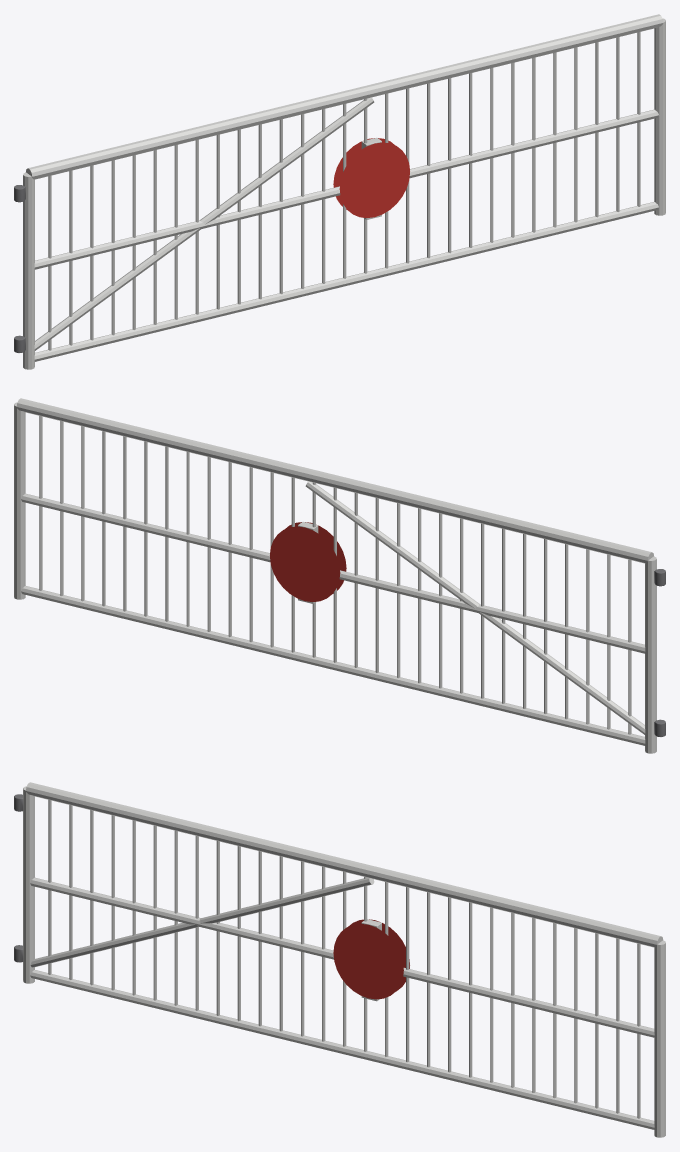
File: rail.crossing.gate_40.glb
3 renders of one model, top to bottom at view 1: azimuth 30°, elevation 25°; view 2: azimuth 150°, elevation 25°; view 3: azimuth 330°, elevation 25°, orthographic.
Parts seen in each view (by area): view 1: main__paint_eed, main__paint_c33; view 2: main__paint_eed, main__paint_c33; view 3: main__paint_eed, main__paint_c33.
Boxes of the visible parts, <box> form: main__paint_eed: <box>23,14,665,369</box>; main__paint_c33: <box>333,138,409,217</box>; main__paint_eed: <box>14,398,656,753</box>; main__paint_c33: <box>270,522,346,601</box>; main__paint_eed: <box>23,782,665,1137</box>; main__paint_c33: <box>333,919,409,999</box>.
Size of the model in its own units: 4.06 by 1.18 by 0.07.
